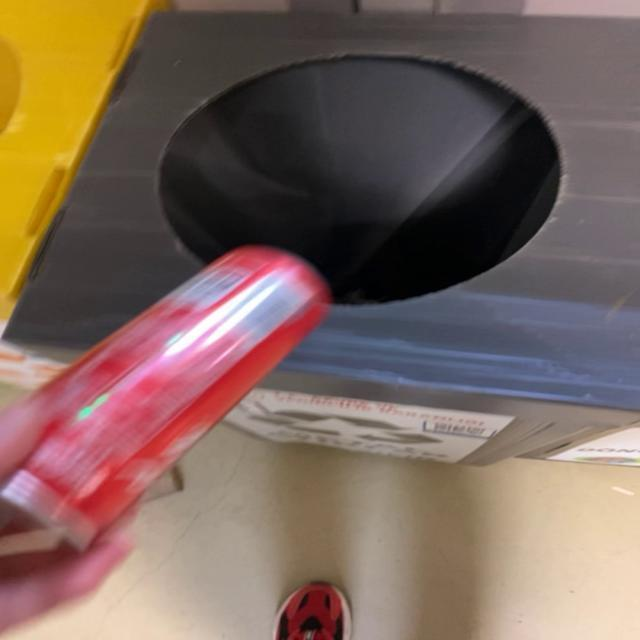Bin: (4, 12, 639, 466)
Metal: (1, 245, 331, 550)
